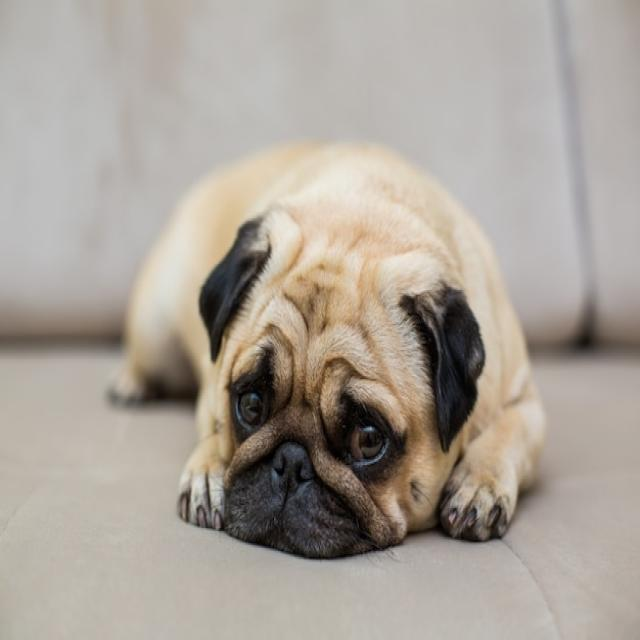Dog: (106, 141, 545, 559)
